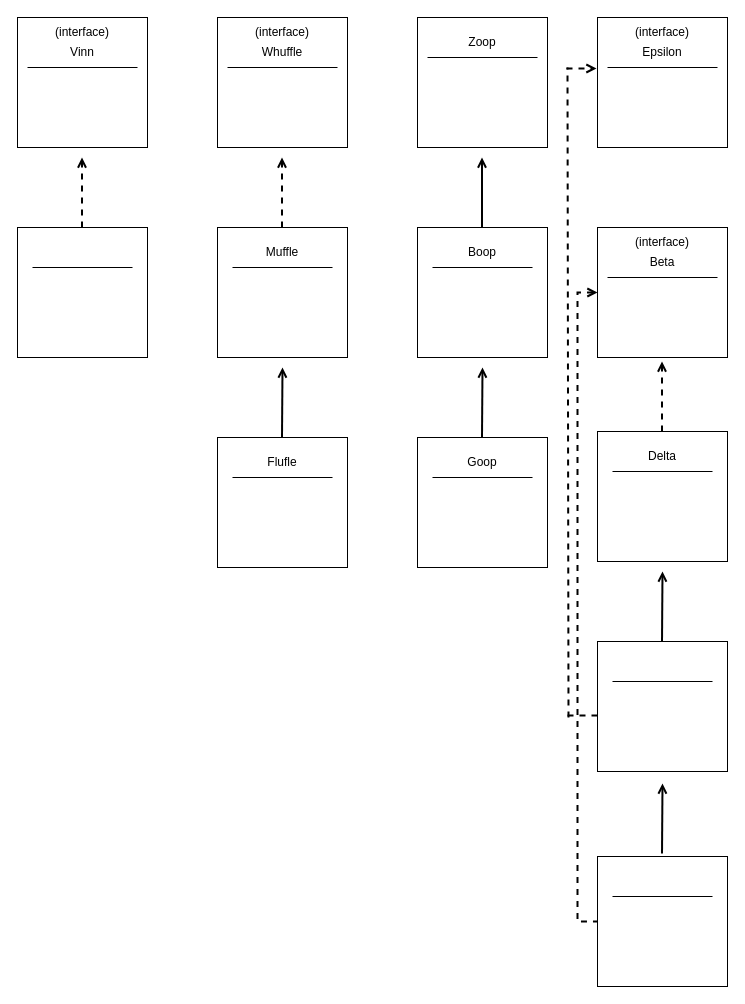
This 745x1004 diagram has some shape labels left out. Each missing label, with the box of its shape:
Alpha: (596, 856, 728, 986)
Gamma: (596, 640, 728, 772)
Vout: (16, 226, 148, 358)
